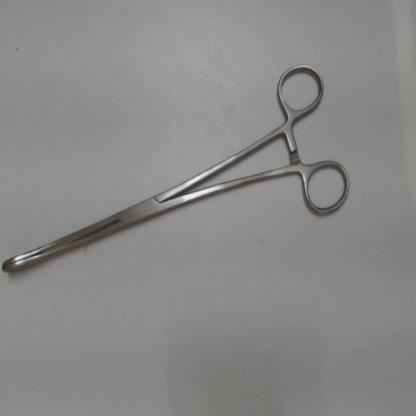Sponge Forceps: (0, 59, 358, 289)
